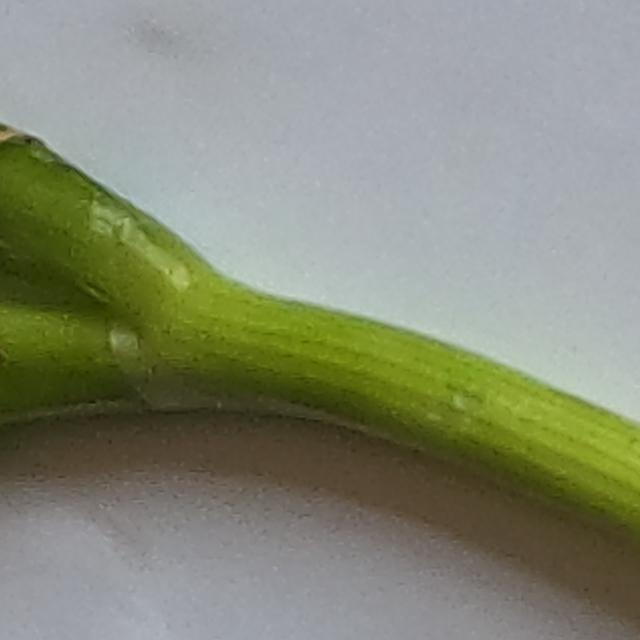green_onion: (0, 131, 640, 553)
